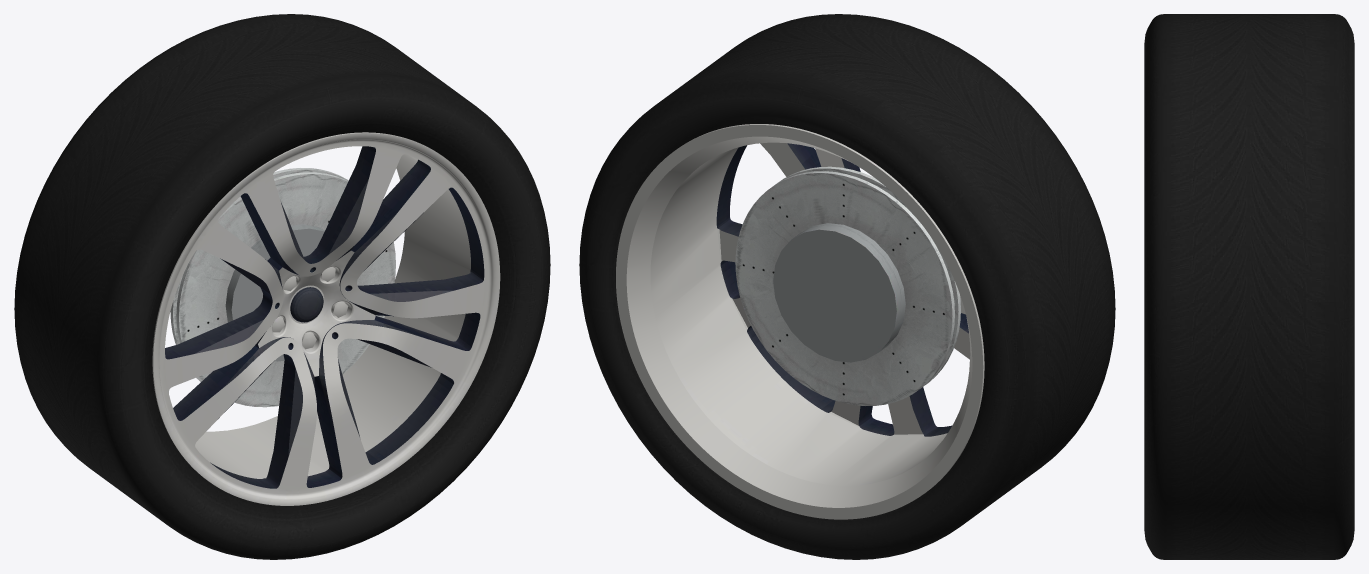
File: mercedesclassw212wheel.glb
3 renders of one model, left to right at view 1: azimuth 30°, elevation 25°; view 2: azimuth 150°, elevation 25°; view 3: azimuth 270°, elevation 25°, orthographic. The views are drawn at different scales.
Visible parts, largest first — view 1: mesh_WheelRR_mat_tires_0, mesh_WheelRR_mat_wheels_0, mesh_BrakeDiskRL_mat_brakes_0; view 2: mesh_WheelRR_mat_tires_0, mesh_WheelRR_mat_wheels_0, mesh_BrakeDiskRL_mat_brakes_0; view 3: mesh_WheelRR_mat_tires_0.
Part boxes in pixels (x1,y1,x2,y2): mesh_WheelRR_mat_tires_0: [14, 14, 550, 559]; mesh_WheelRR_mat_wheels_0: [152, 132, 500, 505]; mesh_BrakeDiskRL_mat_brakes_0: [170, 168, 395, 407]; mesh_WheelRR_mat_tires_0: [579, 14, 1115, 559]; mesh_WheelRR_mat_wheels_0: [616, 124, 984, 519]; mesh_BrakeDiskRL_mat_brakes_0: [735, 166, 960, 405]; mesh_WheelRR_mat_tires_0: [1144, 14, 1354, 559].
Bounding box in the file's own units: 0.6586 × 0.6586 × 0.2538.
Materials: 3 (3 with a texture image).
